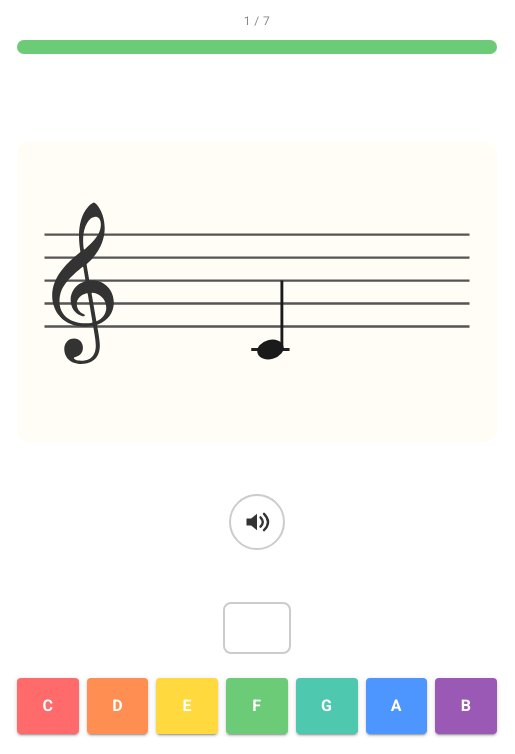
shows server-authoritative timeout feedback for an answer that arrived too late
The image size is (515, 754).
Click the button "C": (48, 706) [17,678,79,734]
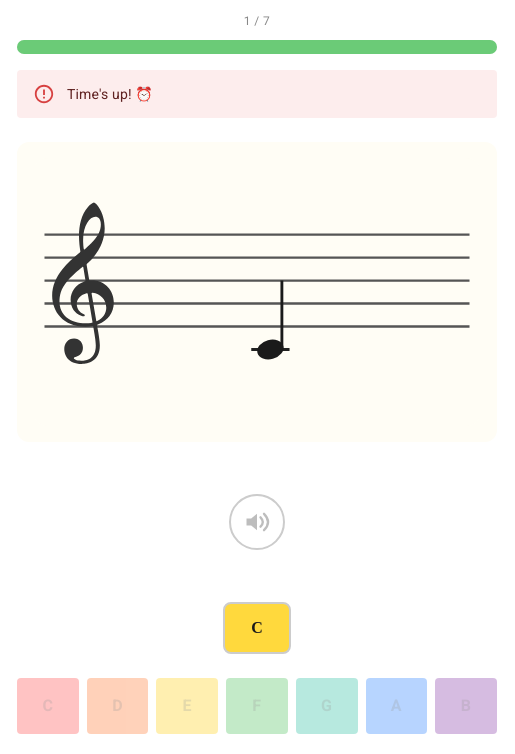
Expected: the message does not show "Almost! 😊", [17,70,497,118]
Expected: the message reads "Time's up! ⏰", [67,86,153,102]
